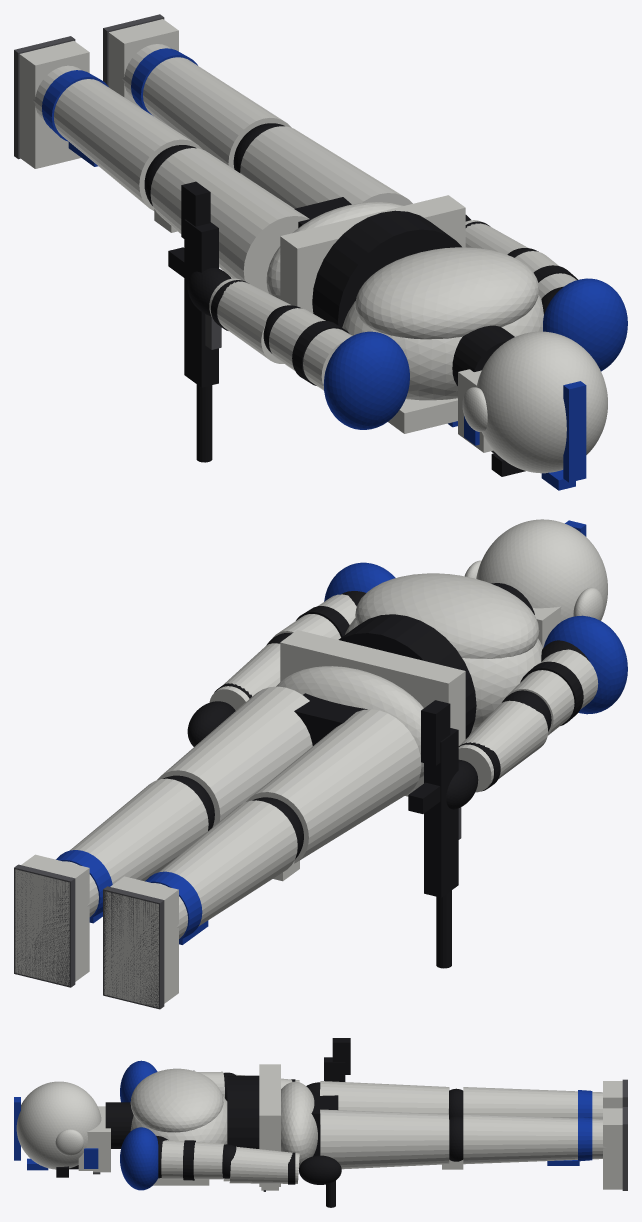
File: clone_trooper.obj
The picture shows the model from 3 angles, top to bottom: view 1: azimuth 30°, elevation 25°; view 2: azimuth 150°, elevation 25°; view 3: azimuth 270°, elevation 25°; orthographic projection. The views are drawn at different scales.
Bounding box in the file's own units: 105 × 88.95 × 299.
